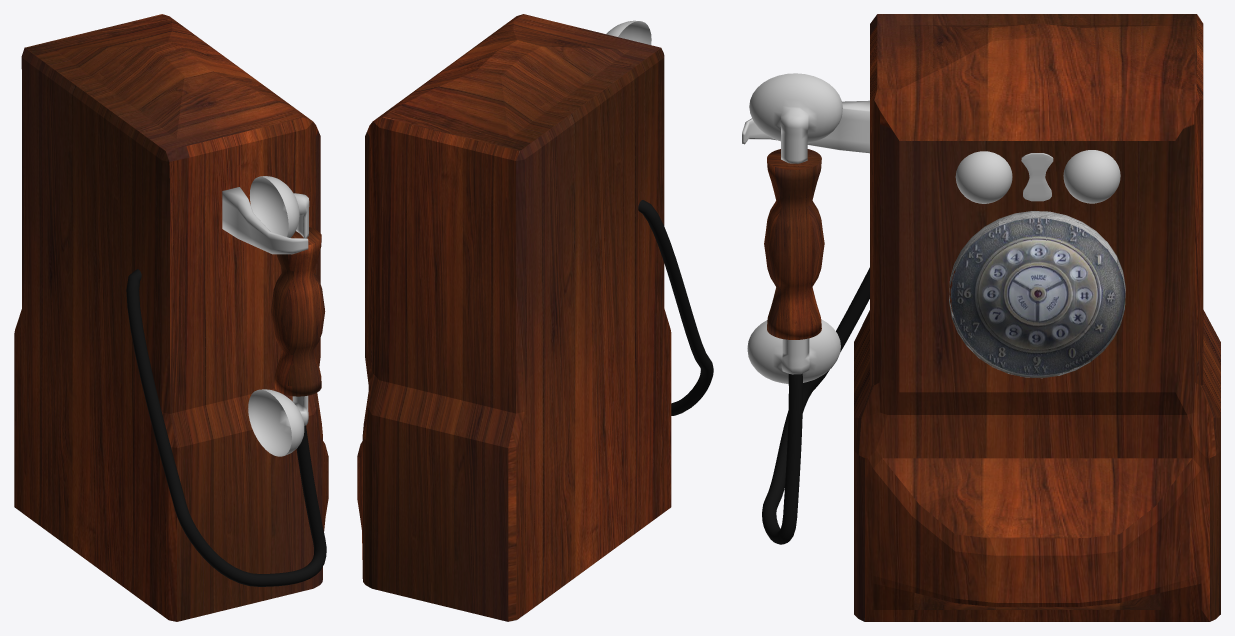
The model's file is 1920phoneFixedForRealThisTime.fbx.
3 views of the same model, side by side, from view 1: azimuth 30°, elevation 25°; view 2: azimuth 150°, elevation 25°; view 3: azimuth 270°, elevation 25° (orthographic). The views are drawn at different scales.
Parts seen in each view (by area): view 1: phoneBox, PhoneCord, ReceiverHandle, ReceiverEarPiece.001, ReceiverEarPiece, ReceiverHolder; view 2: phoneBox, PhoneCord, ReceiverEarPiece; view 3: phoneBox, MetalRing, ReceiverHandle, ReceiverEarPiece, PhoneCord, ReceiverEarPiece.001, Bell, Bell2, ReceiverHolder, SkinnyLegend.
Boxes of the visible parts, box(x1,y1,x2,y2) form: phoneBox: box(14, 14, 328, 621); PhoneCord: box(126, 269, 326, 586); ReceiverHandle: box(271, 227, 325, 396); ReceiverEarPiece.001: box(248, 389, 308, 456); ReceiverEarPiece: box(249, 176, 309, 238); ReceiverHolder: box(222, 187, 308, 254); phoneBox: box(357, 14, 671, 621); PhoneCord: box(638, 200, 713, 415); ReceiverEarPiece: box(606, 20, 651, 44); phoneBox: box(854, 14, 1220, 621); MetalRing: box(949, 211, 1125, 378); ReceiverHandle: box(764, 149, 824, 339); ReceiverEarPiece: box(749, 73, 842, 163); PhoneCord: box(762, 267, 869, 544); ReceiverEarPiece.001: box(747, 319, 840, 383); Bell: box(1063, 150, 1120, 203); Bell2: box(955, 151, 1012, 203); ReceiverHolder: box(742, 100, 869, 153); SkinnyLegend: box(1021, 153, 1053, 201).
Size of the model in its own units: 174 by 357 by 280.
